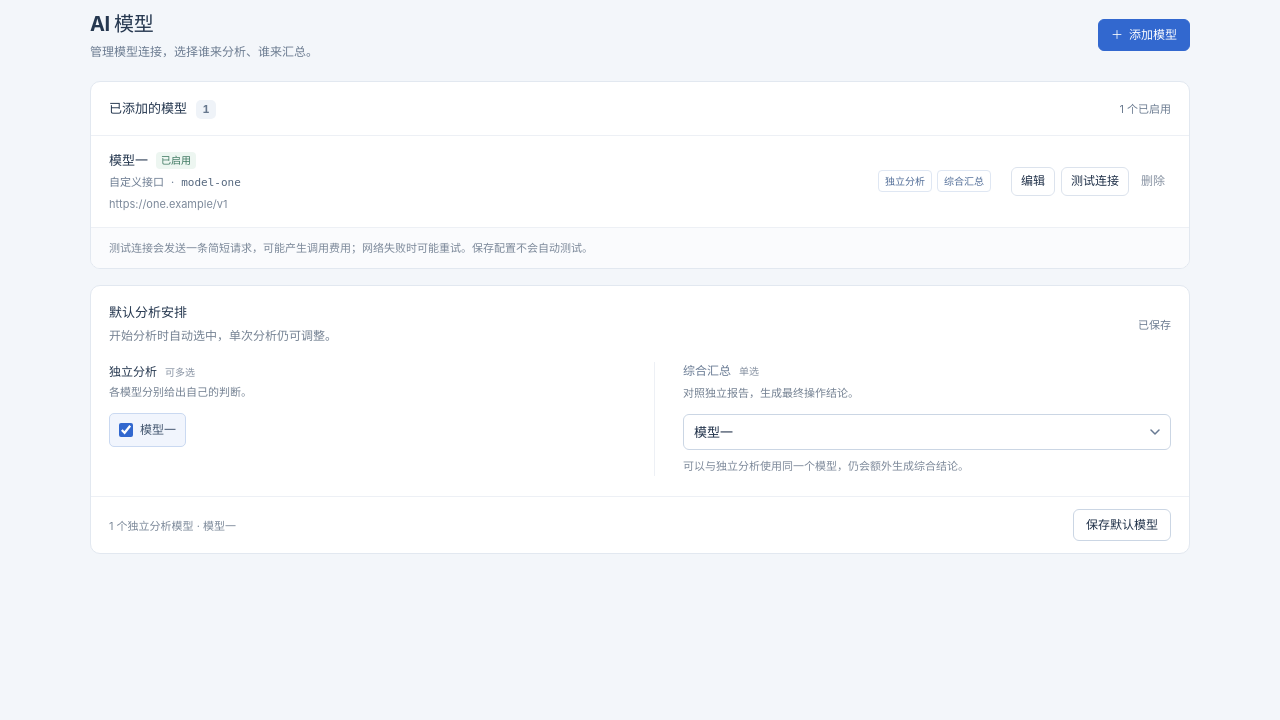
Test: AI model settings › connection test states possible cost and displays safe service errors
This screenshot has width=1280, height=720.
Click the button with aria-label "测试模型一连接": point(1095, 181) [1061,167,1129,196]
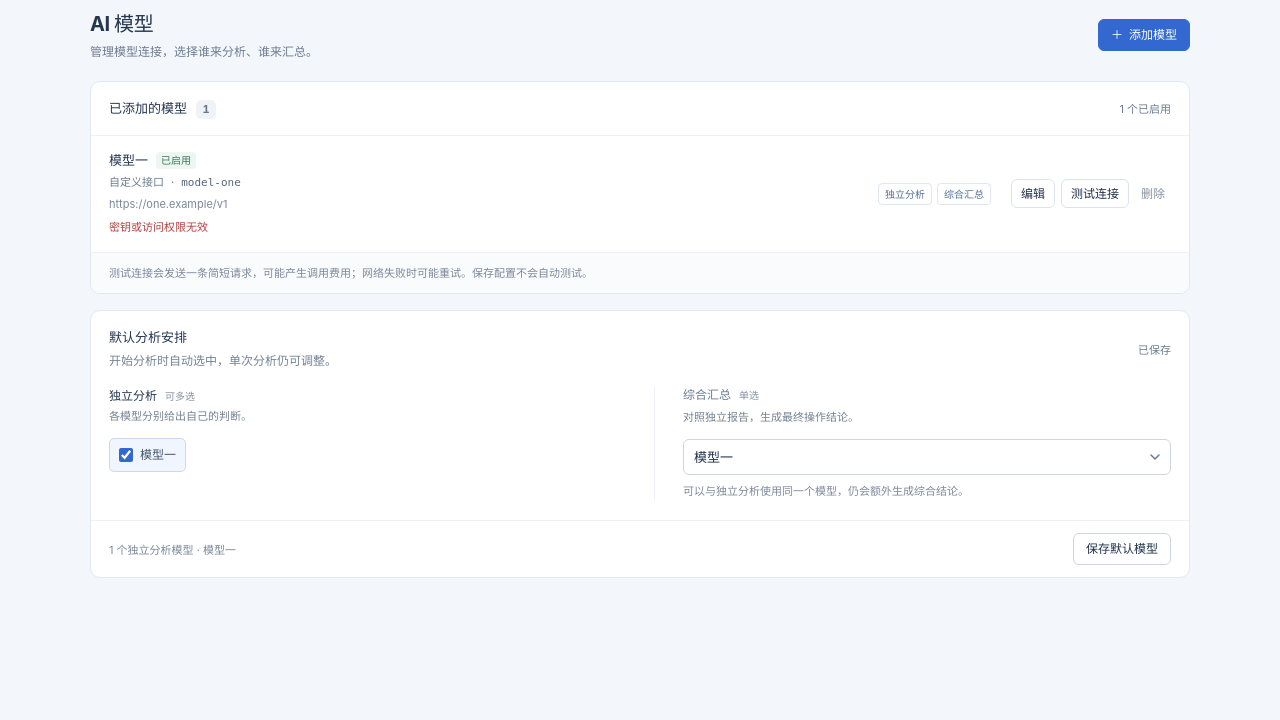
Expected: the message "密钥或访问权限无效" is shown, [109,220,208,234]
